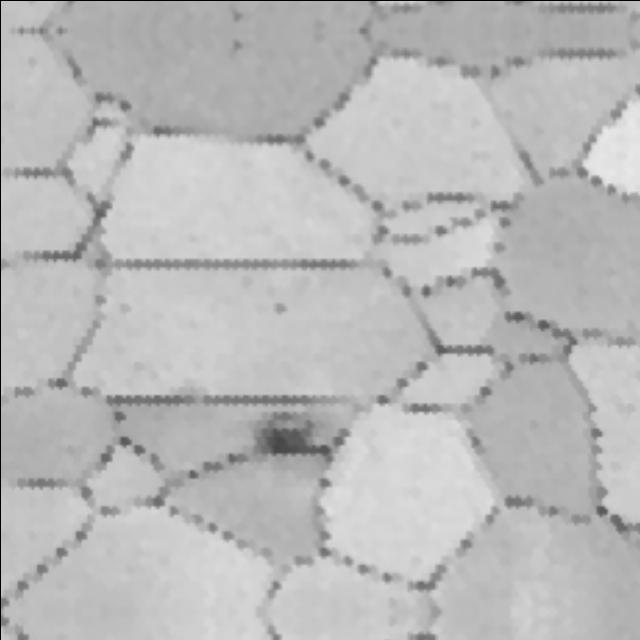good_void: (254, 404, 320, 459), (224, 32, 246, 62), (224, 0, 246, 26), (268, 296, 289, 316)
